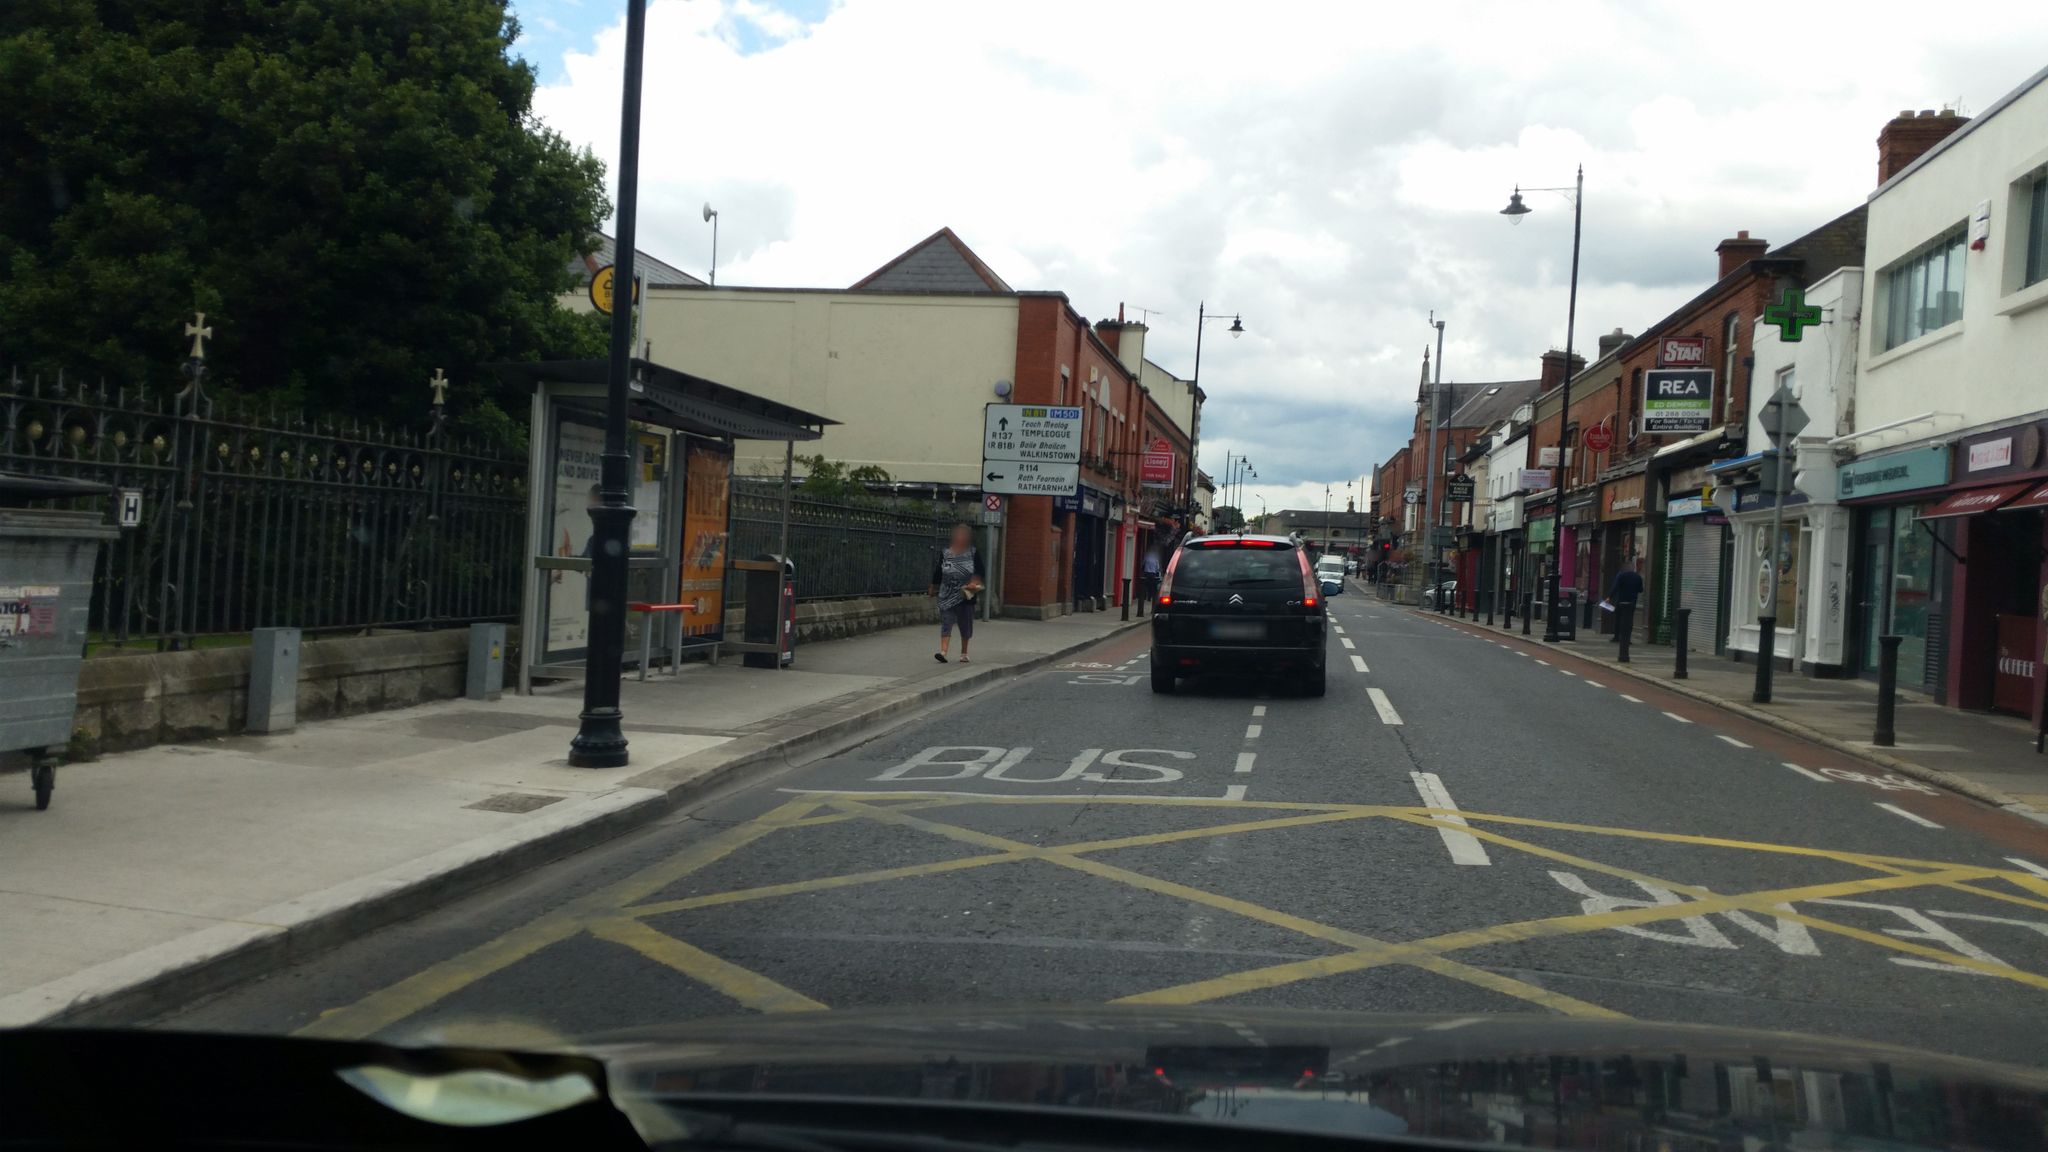property sign: (1622, 353, 1733, 450), (1132, 443, 1180, 497)
